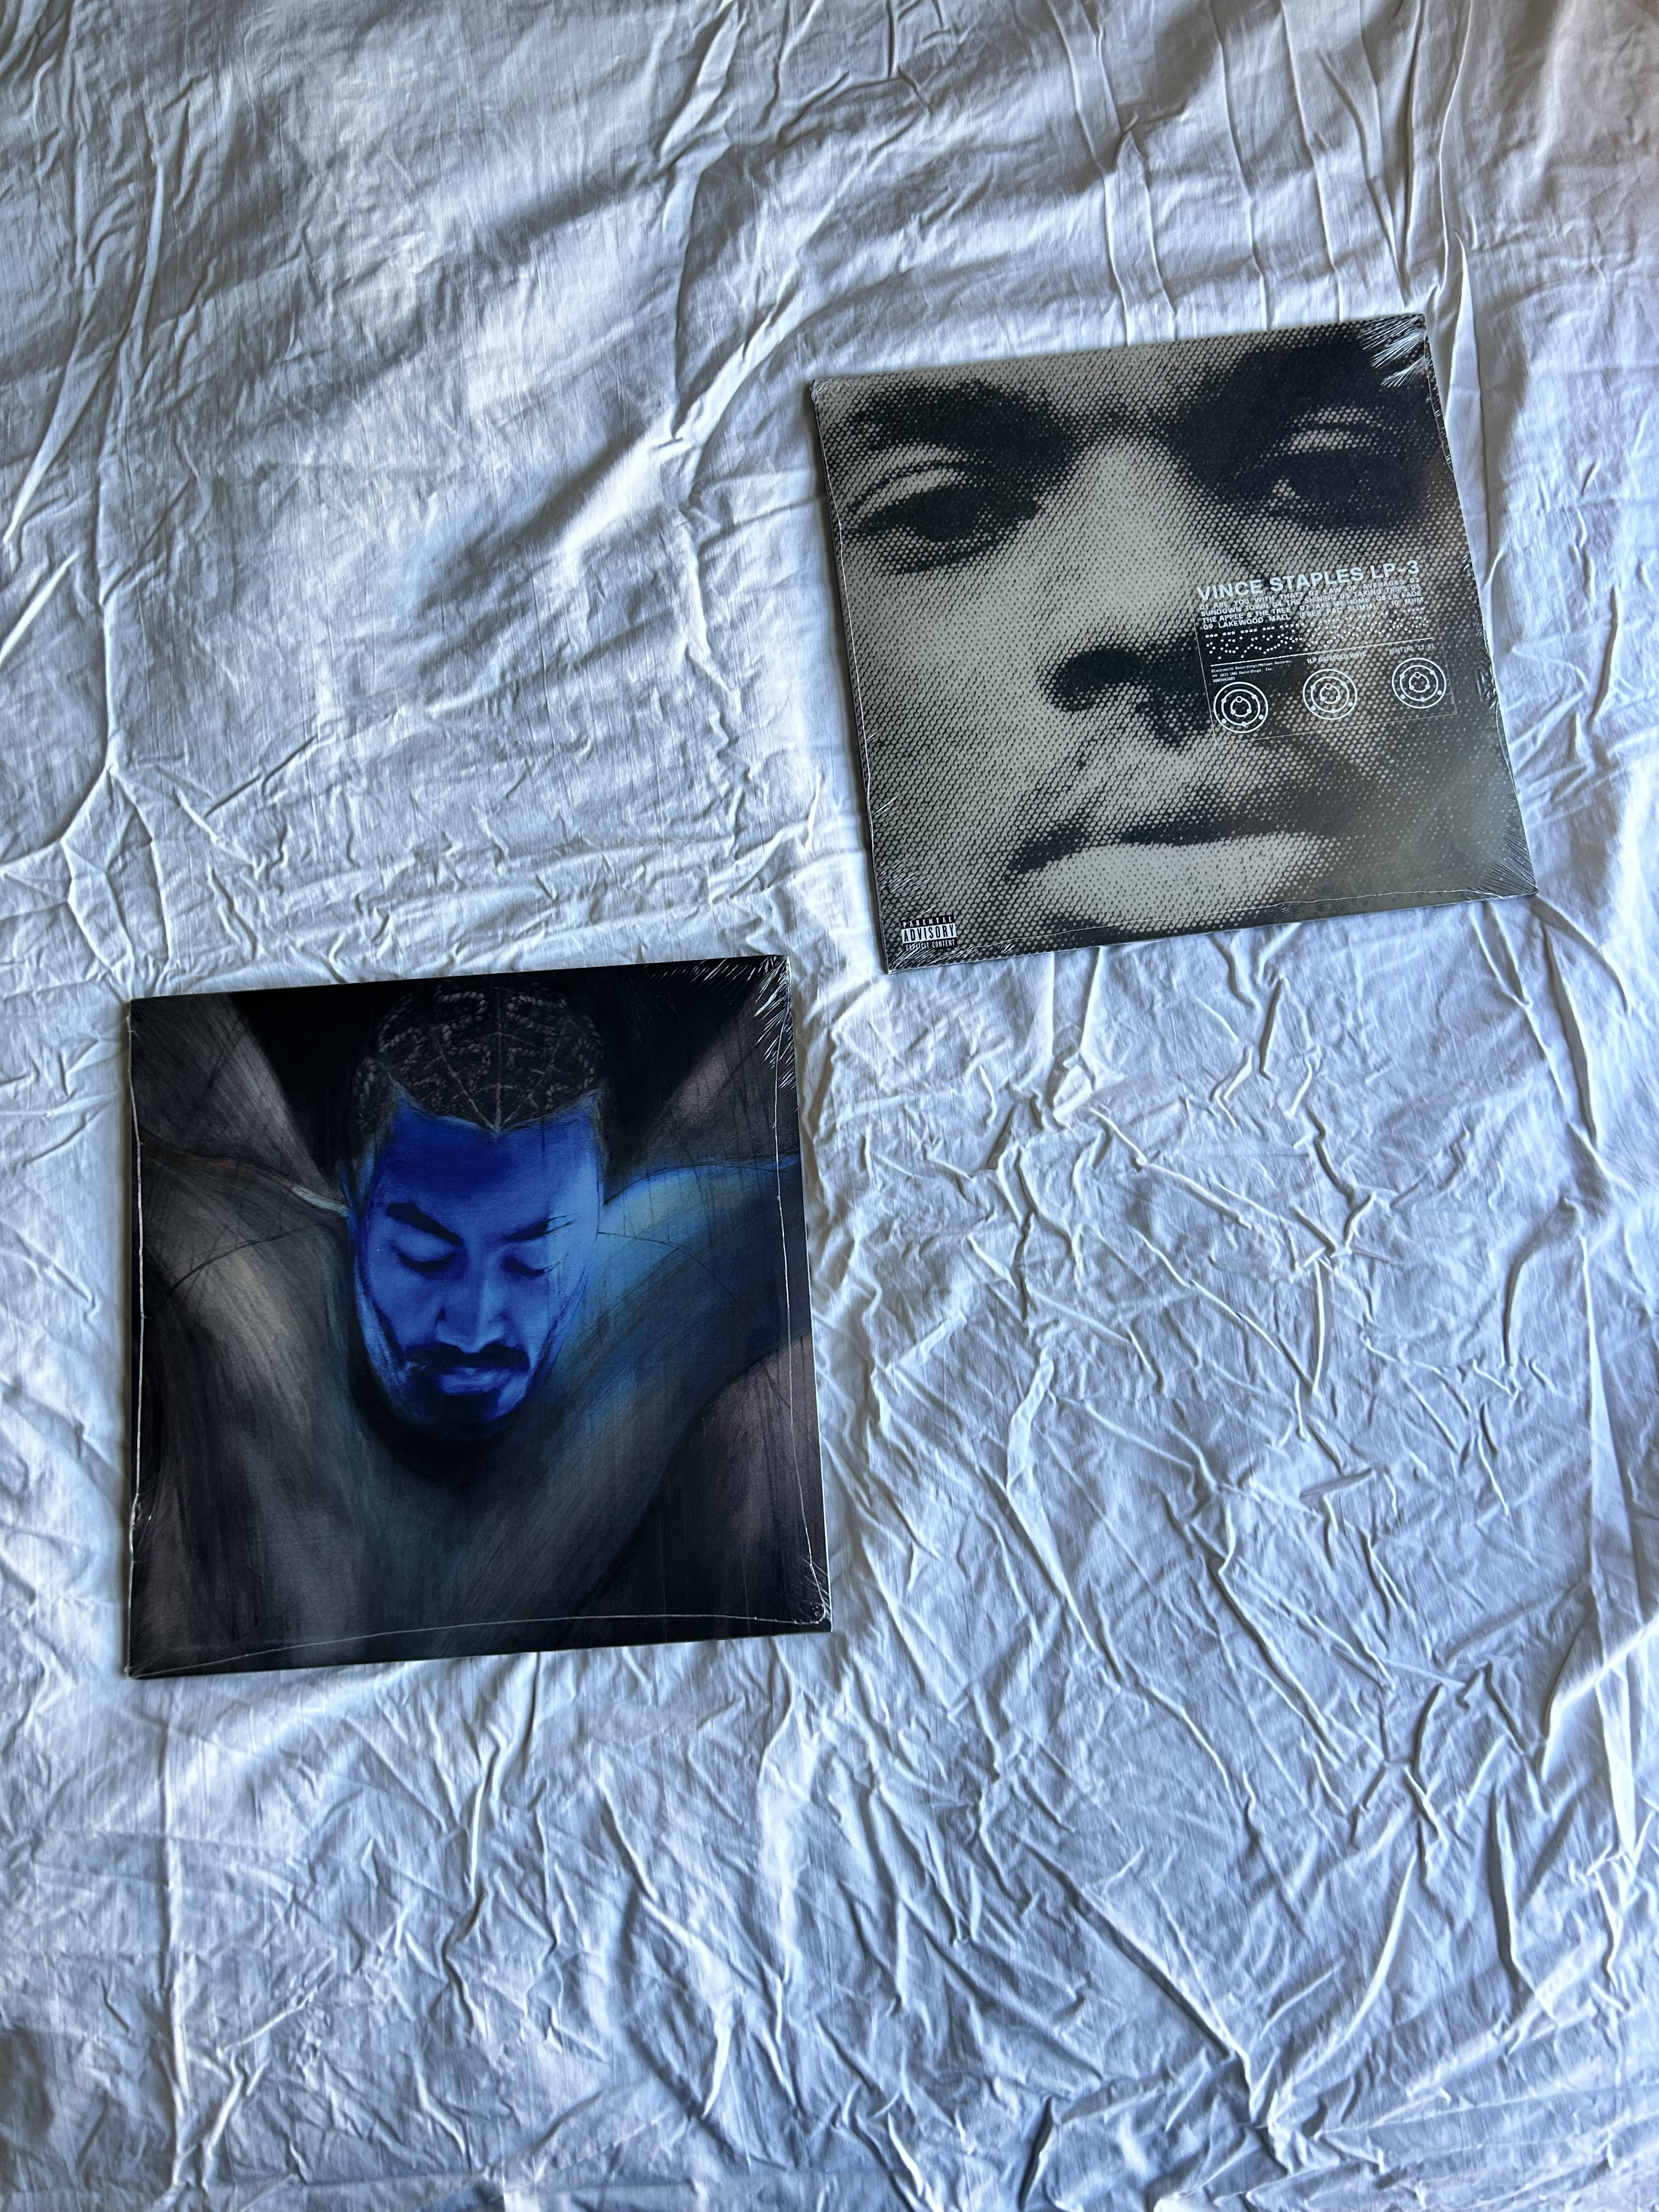navy blue_song of sage: post panic!: (85, 993, 802, 1676)
vince staples_vince staples: (788, 383, 1474, 984)
